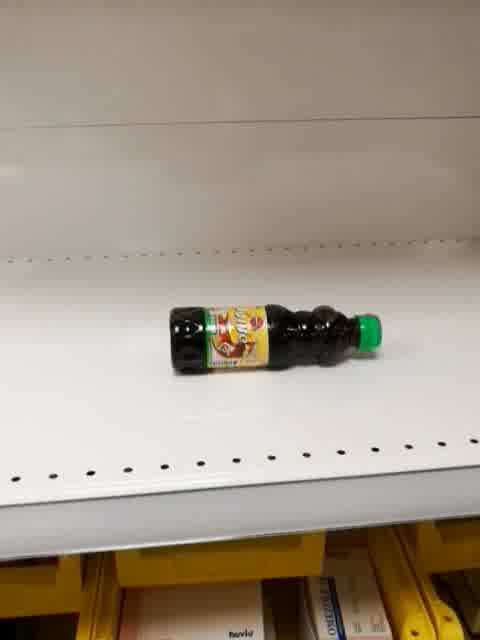cookingoil: (167, 301, 385, 378)
